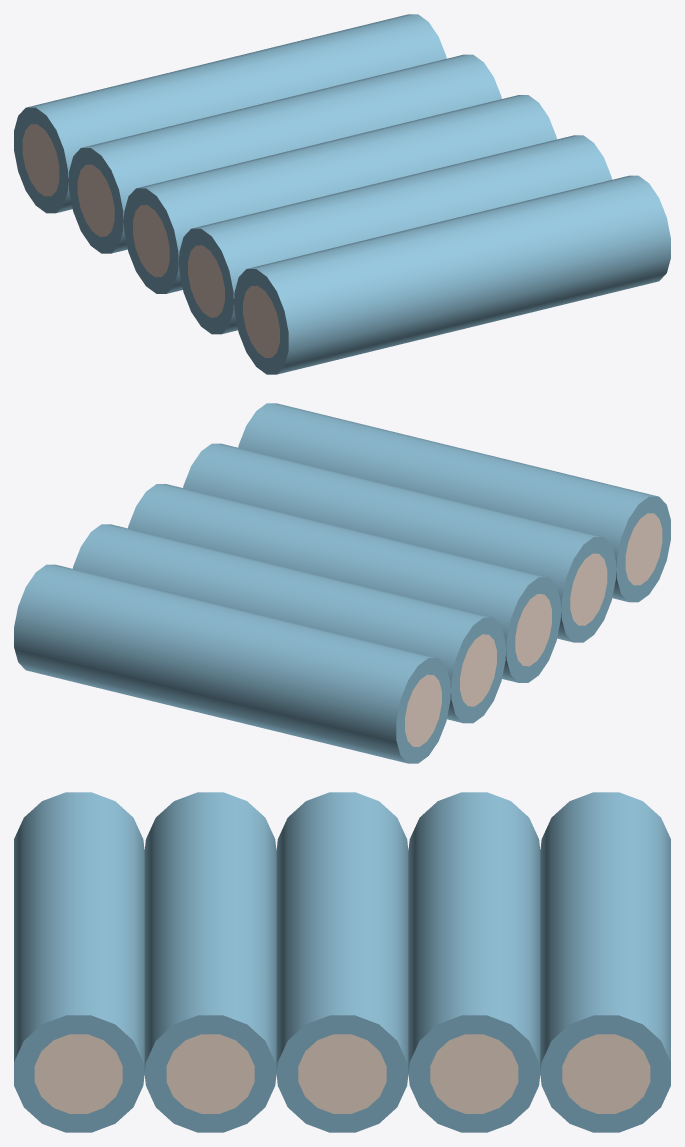
File: Props_Conveyor_Blue_05.fbx
3 views of the same model, one above another, from view 1: azimuth 30°, elevation 25°; view 2: azimuth 150°, elevation 25°; view 3: azimuth 270°, elevation 25° (orthographic). The views are drawn at different scales.
Parts seen in each view (by area): view 1: Props_Conveyor_Blue_05; view 2: Props_Conveyor_Blue_05; view 3: Props_Conveyor_Blue_05.
Part boxes in pixels (bbox=[...]): Props_Conveyor_Blue_05: bbox=[14, 14, 670, 374]; Props_Conveyor_Blue_05: bbox=[14, 403, 670, 763]; Props_Conveyor_Blue_05: bbox=[14, 792, 670, 1132].
Bounding box in the file's own units: 79.97 × 19.59 × 99.48.
